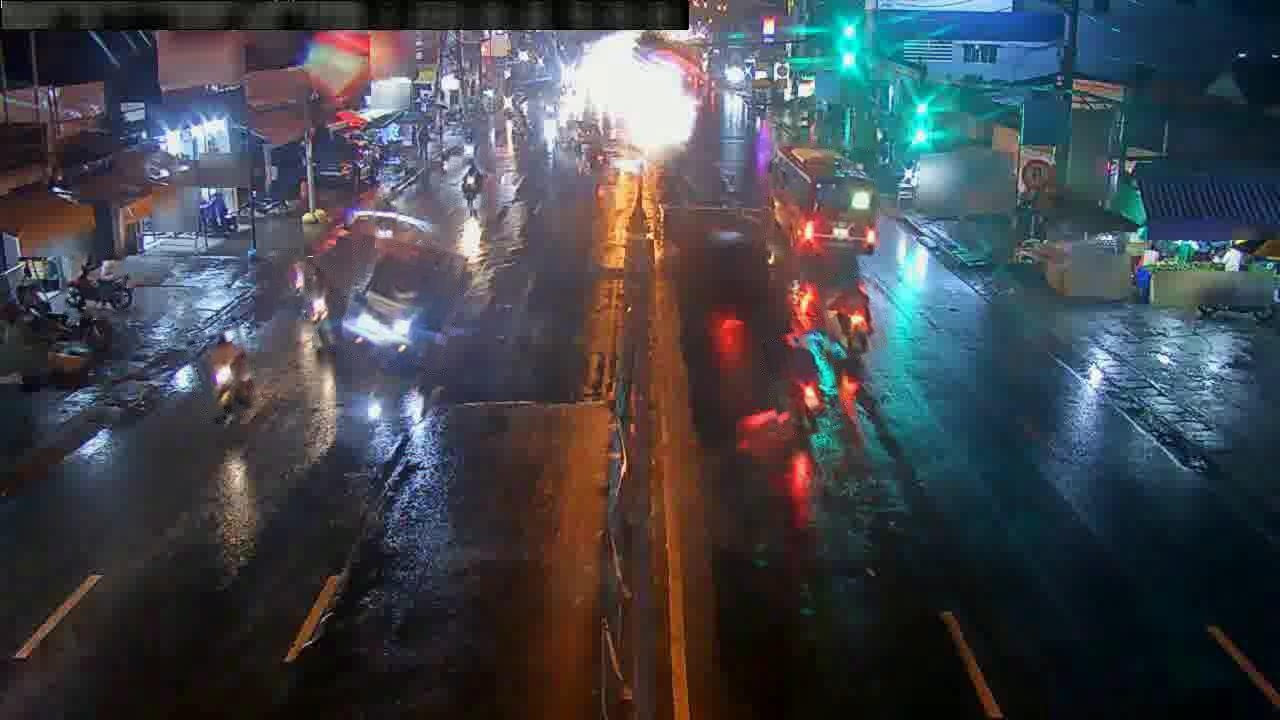Bus: (769, 146, 879, 254)
Motorcyclist: (771, 330, 844, 433), (200, 330, 255, 413), (821, 275, 875, 357), (67, 258, 132, 310), (303, 265, 342, 351), (276, 258, 313, 311), (459, 159, 484, 211), (375, 196, 395, 241)
Pedestrian: (461, 171, 480, 215), (1135, 266, 1151, 303)
Traffic light: (832, 12, 866, 77)
Truck: (342, 244, 466, 359)
